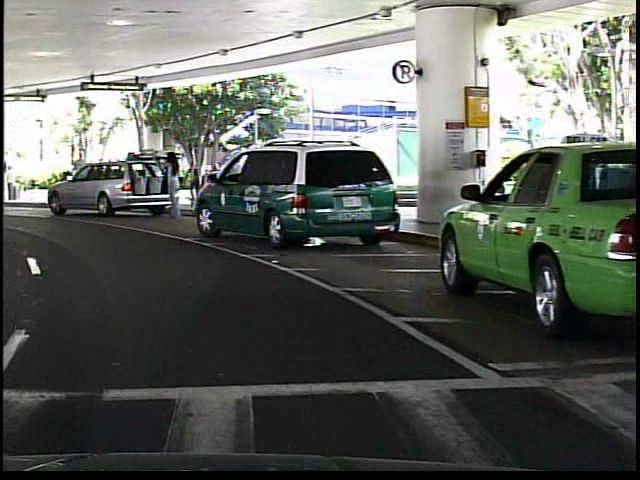person: (161, 144, 181, 225), (64, 149, 89, 201), (180, 155, 199, 213)
